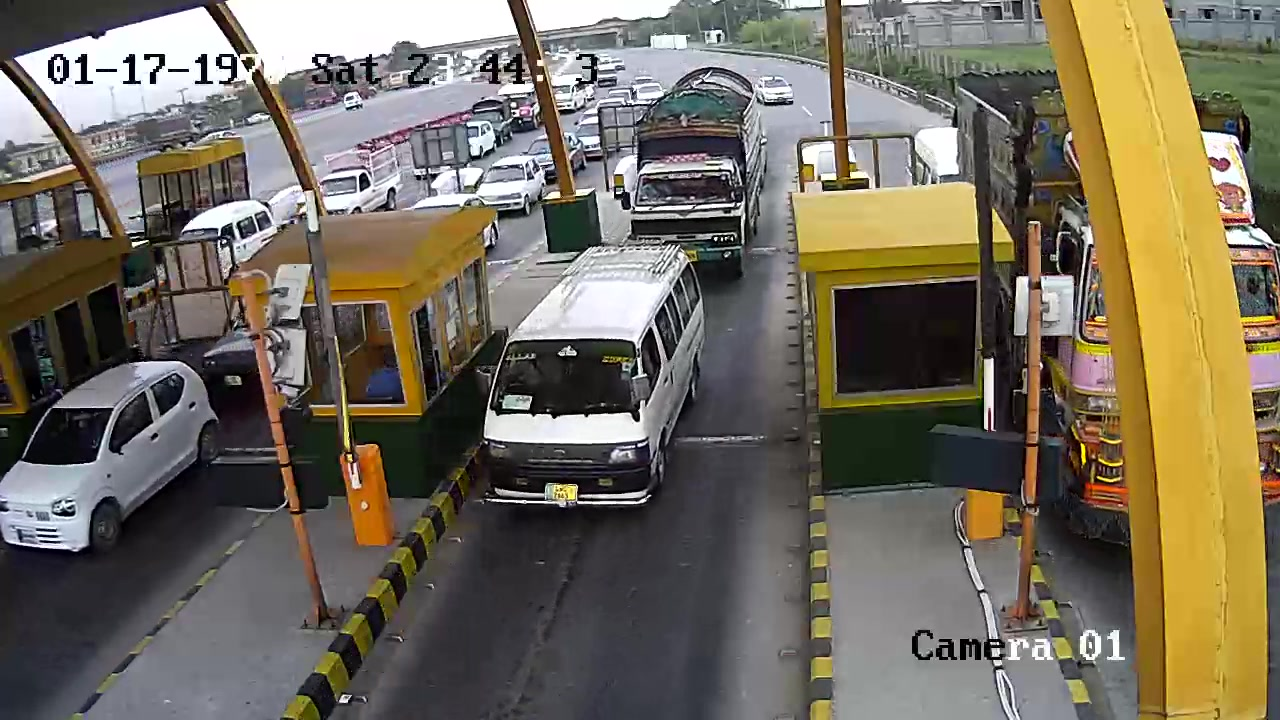F2: (476, 237, 714, 517)
F3: (476, 237, 714, 517)
